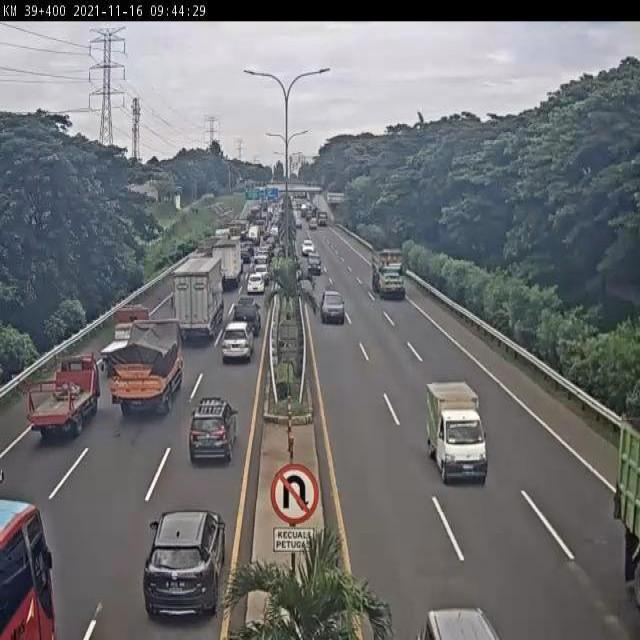big bus: (0, 486, 62, 640)
big truck: (610, 410, 640, 606)
car: (138, 506, 229, 626), (185, 380, 237, 467), (420, 600, 512, 637), (214, 315, 258, 369), (232, 294, 265, 334), (320, 284, 352, 325), (245, 269, 266, 296), (306, 248, 324, 277), (252, 262, 272, 286), (252, 252, 271, 273), (240, 238, 253, 262), (301, 237, 315, 259)
small truck: (20, 330, 103, 450), (424, 381, 491, 487), (92, 293, 159, 371)
truck-l-: (172, 253, 226, 344), (372, 249, 410, 304)
truck-m-: (110, 312, 184, 419), (212, 236, 244, 291)
